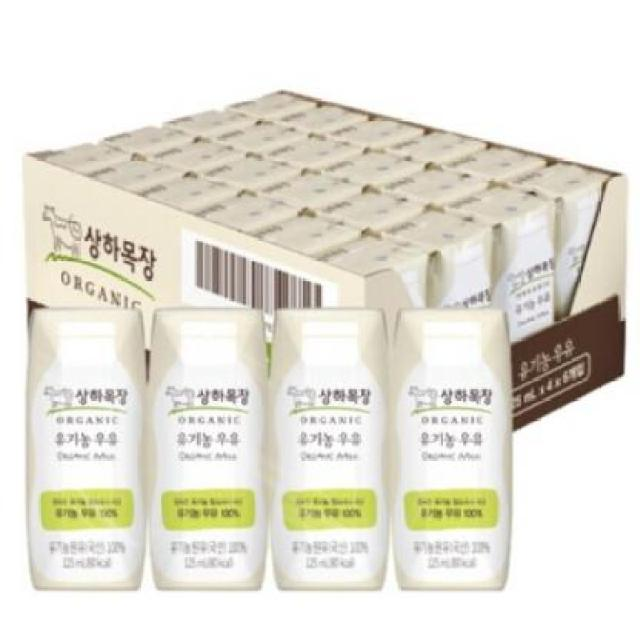tetra: (18, 295, 156, 597)
